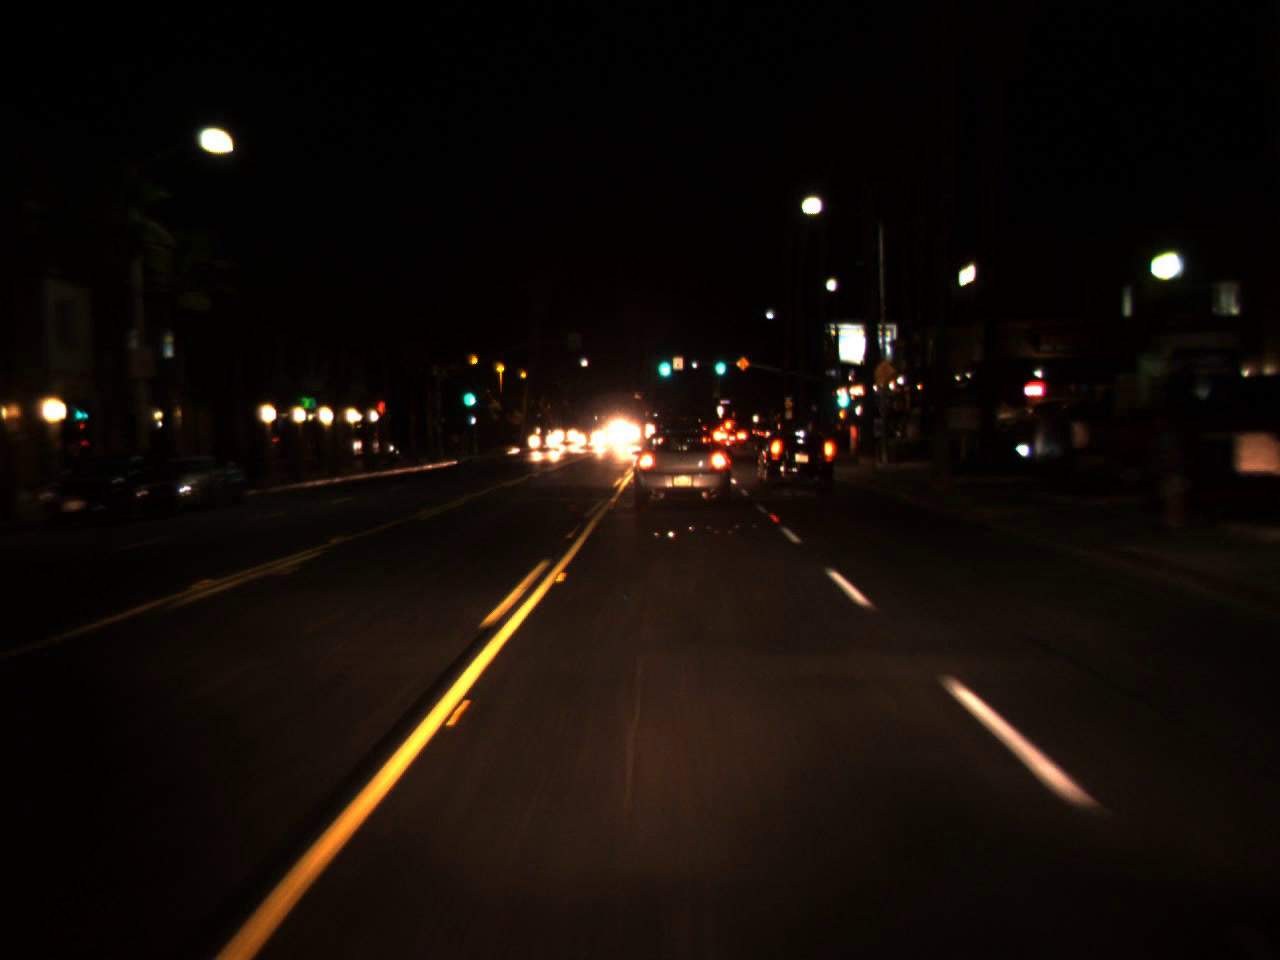go: (829, 373, 852, 415), (655, 343, 673, 382), (458, 376, 477, 412), (711, 346, 727, 379)
